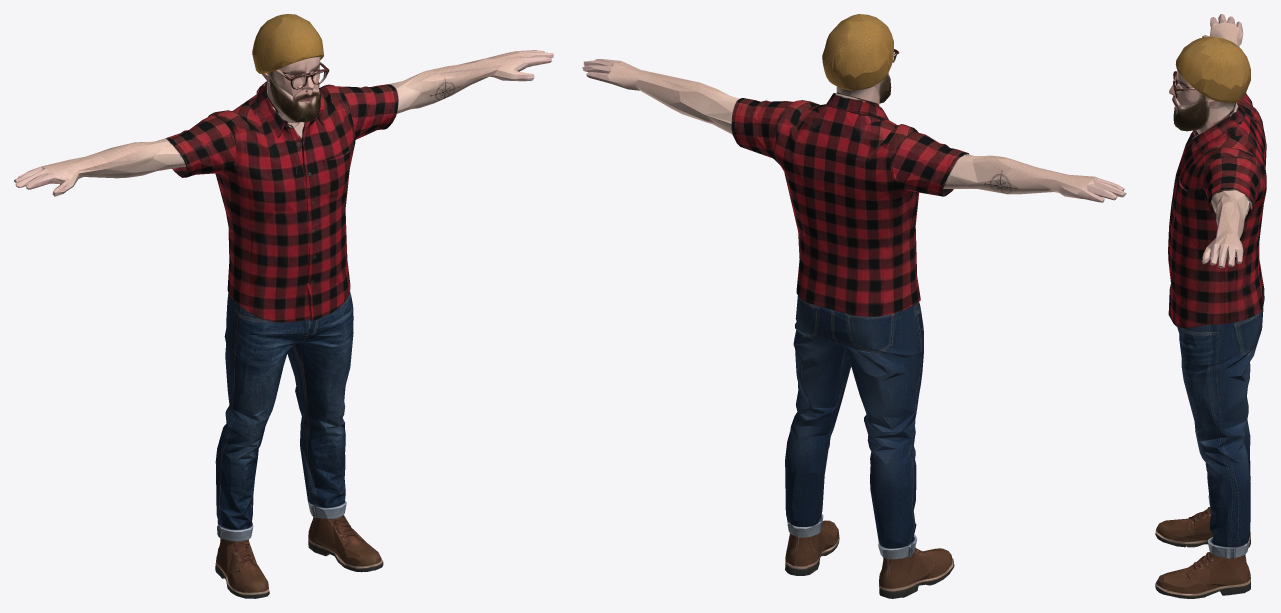
The model's file is image3d.glb.
The picture shows the model from 3 angles, left to right: view 1: azimuth 30°, elevation 25°; view 2: azimuth 150°, elevation 25°; view 3: azimuth 270°, elevation 25°; orthographic projection. The views are drawn at different scales.
Bounding box in the file's own units: 1.9 × 1.86 × 0.3561.
Materials: 1 (1 with a texture image).
